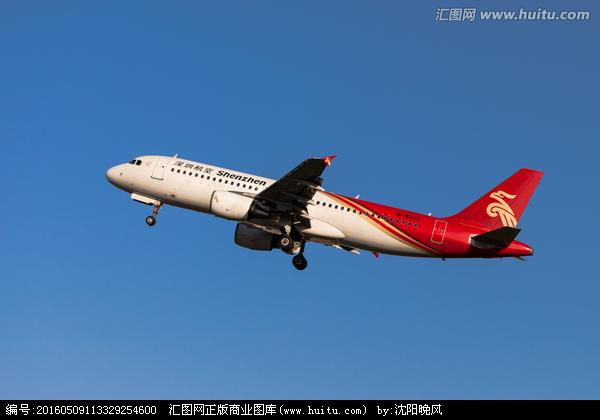airplane: (104, 149, 544, 270)
